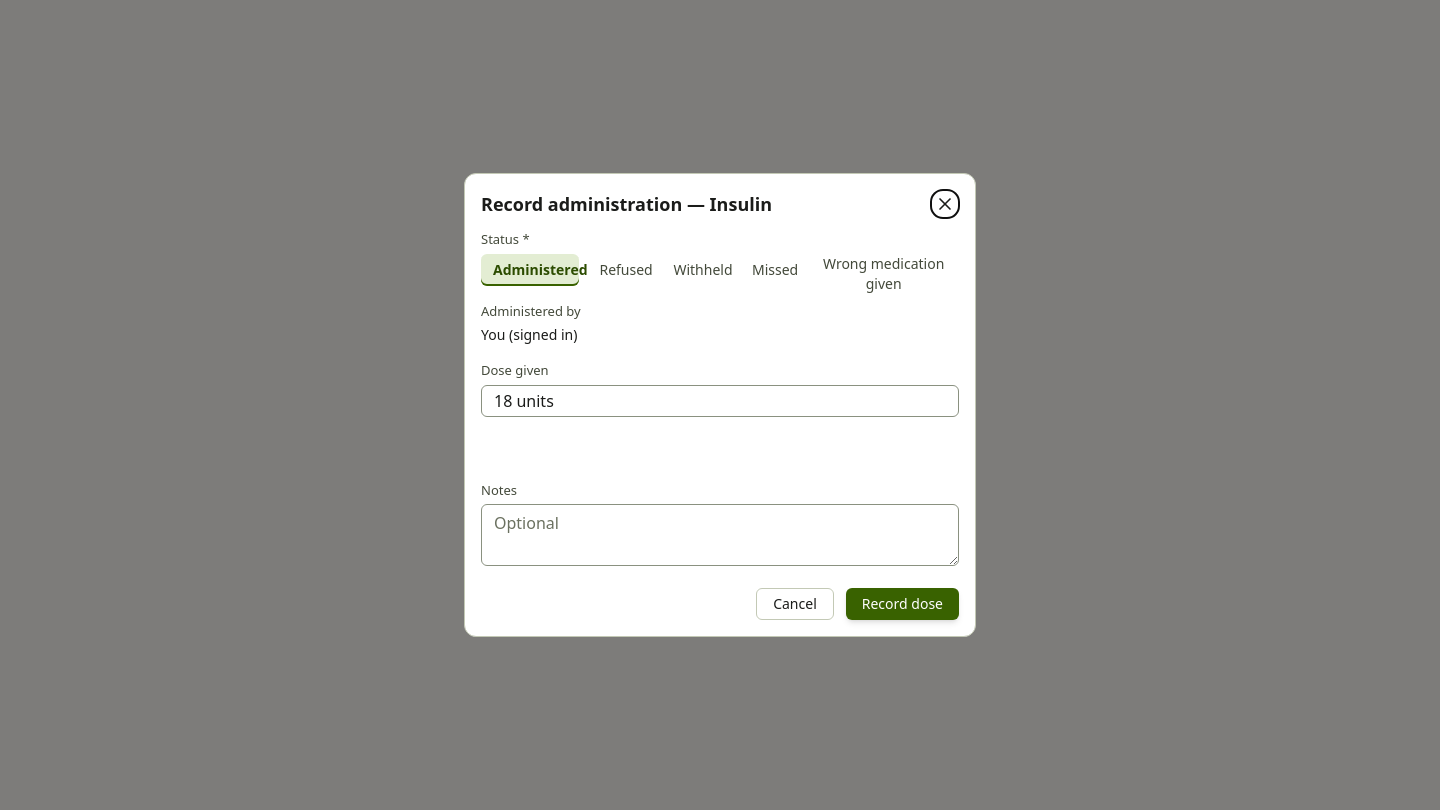
Test: RecordAdministrationModal MED-03 wrong medication › blocks submission without a reason even when the note is filled in
The image size is (1440, 810).
Click the radio button labelled "Wrong medication given". click: [884, 270]
box: [808,254,959,286]
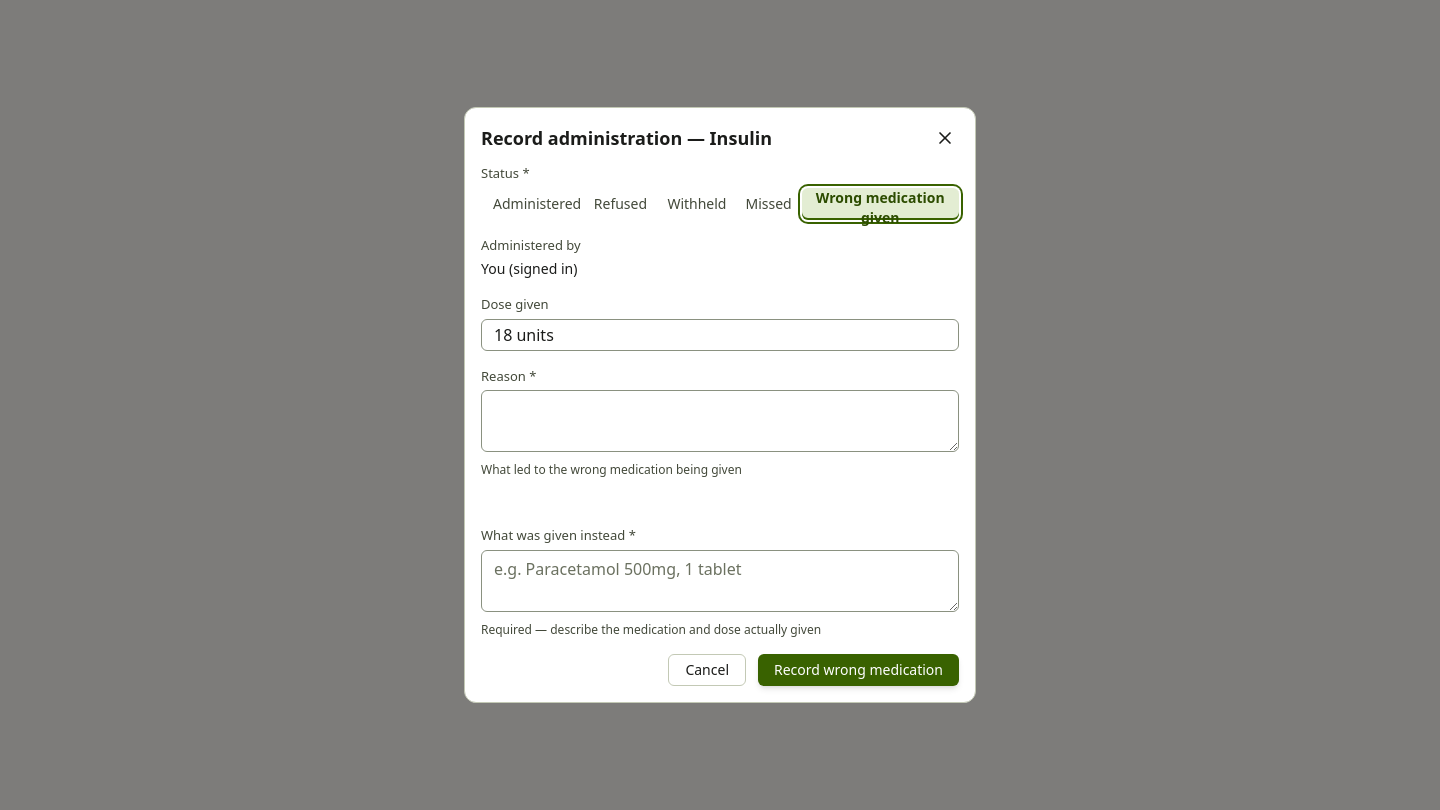
Type "Gave Paracetamol 500mg instead" into the text box labelled "What was given instead *". click: [720, 581]
box: [481,550,959,612]
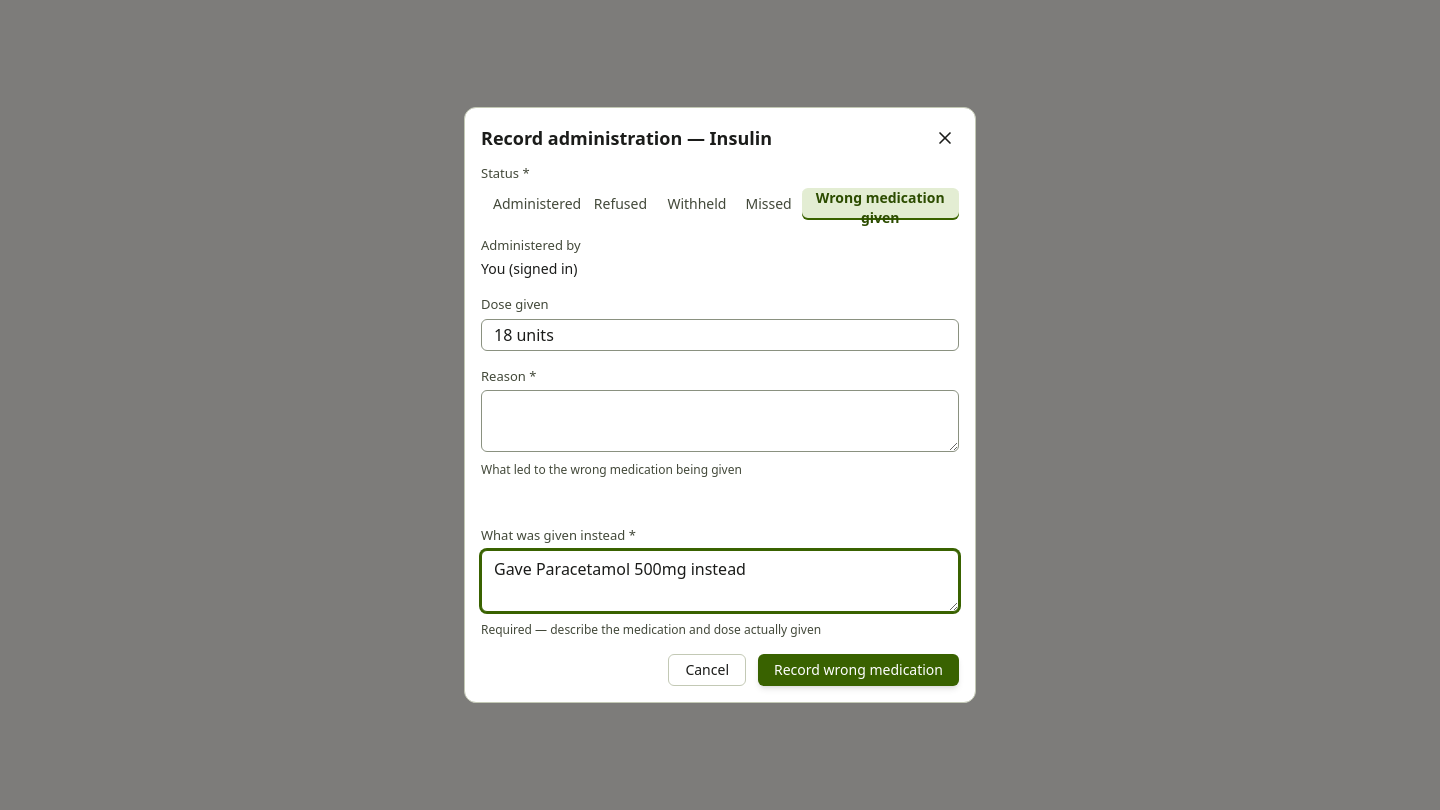
Click the button "Record wrong medication". click: [858, 670]
box: [758,654,959,686]
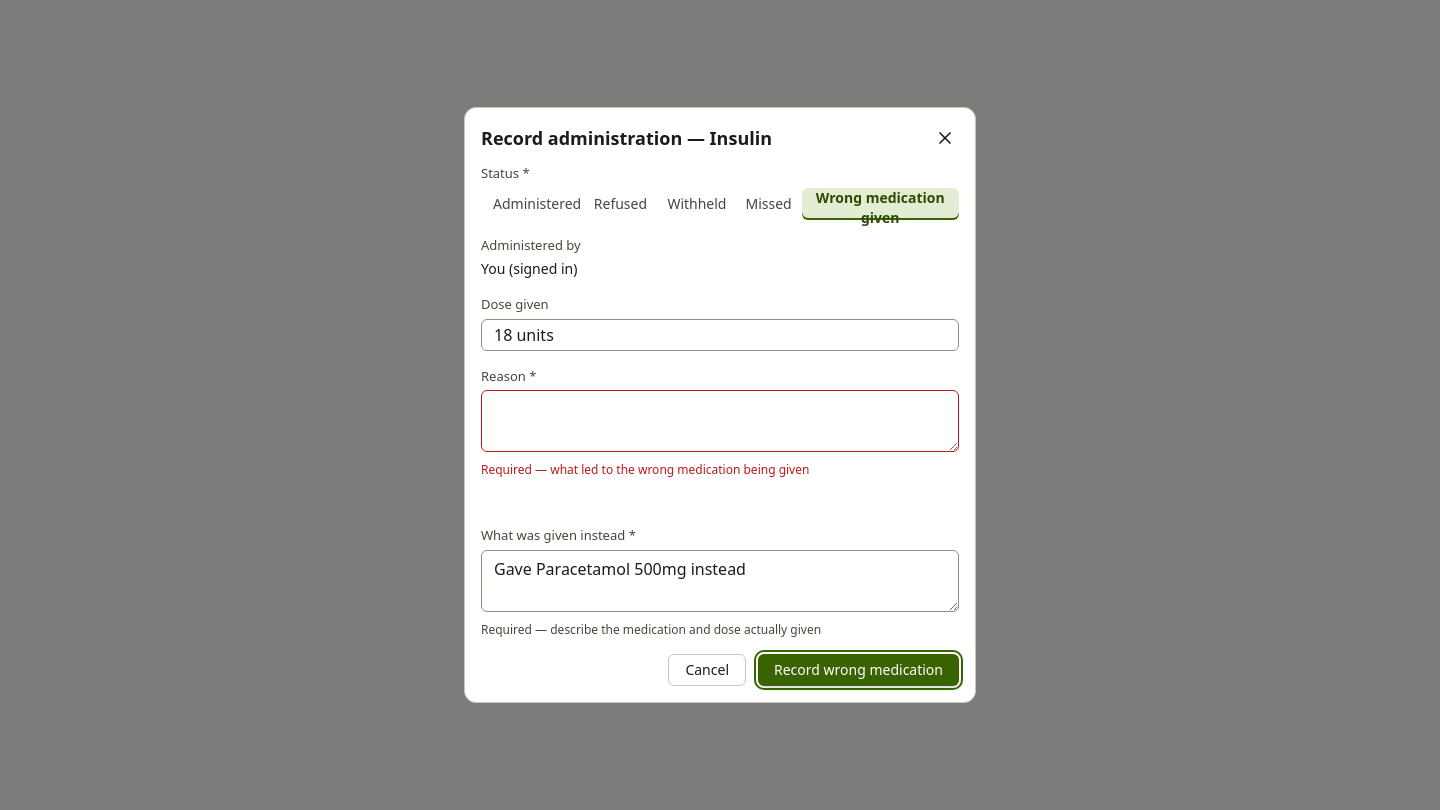
Result: the text "Required — what led to the wrong medication being given" is shown at [481,461,809,478]
